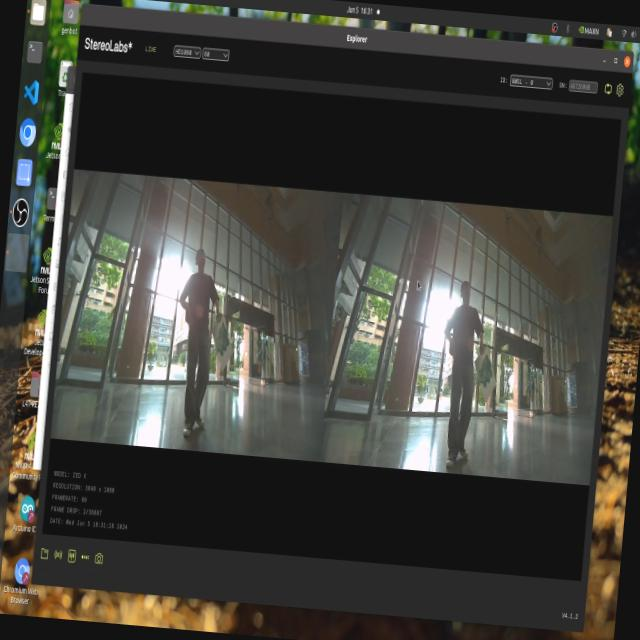green: (212, 318, 233, 360), (476, 344, 496, 388)
